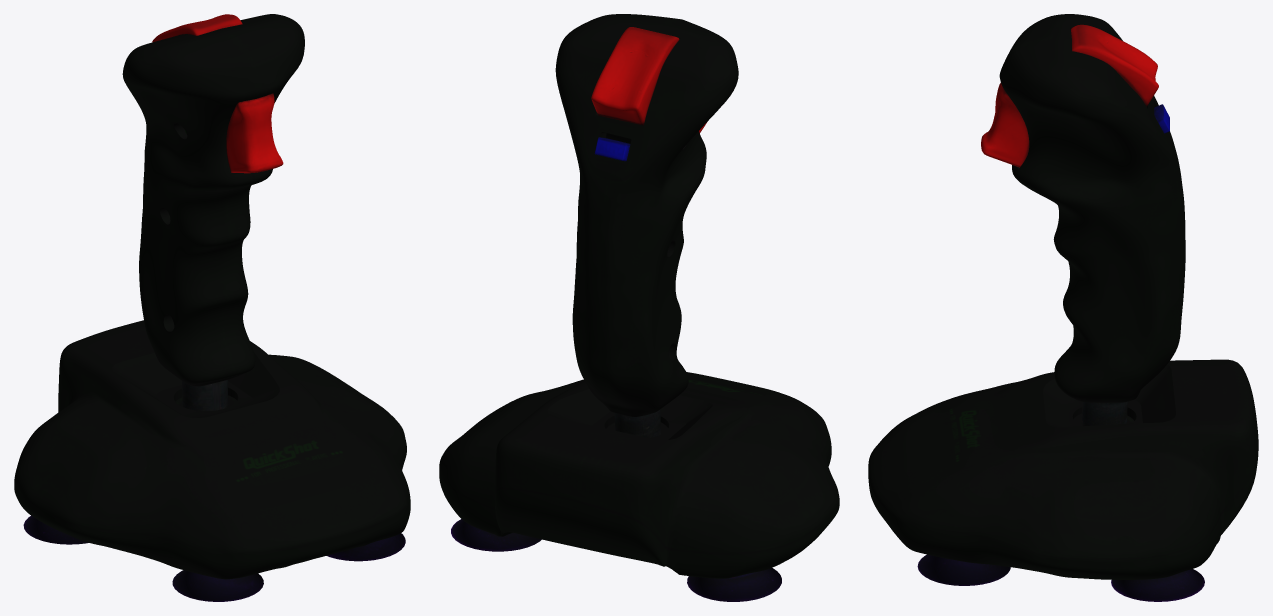
Rendered from joystick.glb.
The picture shows the model from 3 angles, left to right: view 1: azimuth 30°, elevation 25°; view 2: azimuth 150°, elevation 25°; view 3: azimuth 270°, elevation 25°; orthographic projection.
Parts seen in each view (by area): view 1: MIM_1726_JOYSTICK_Baked_1; view 2: MIM_1726_JOYSTICK_Baked_1; view 3: MIM_1726_JOYSTICK_Baked_1.
Part boxes in pixels (bbox=[...]): MIM_1726_JOYSTICK_Baked_1: bbox=[14, 14, 410, 601]; MIM_1726_JOYSTICK_Baked_1: bbox=[439, 14, 839, 601]; MIM_1726_JOYSTICK_Baked_1: bbox=[868, 14, 1258, 601].
Size of the model in its own units: 0.1299 by 0.1752 by 0.1257.
1 material, 1 textured.
